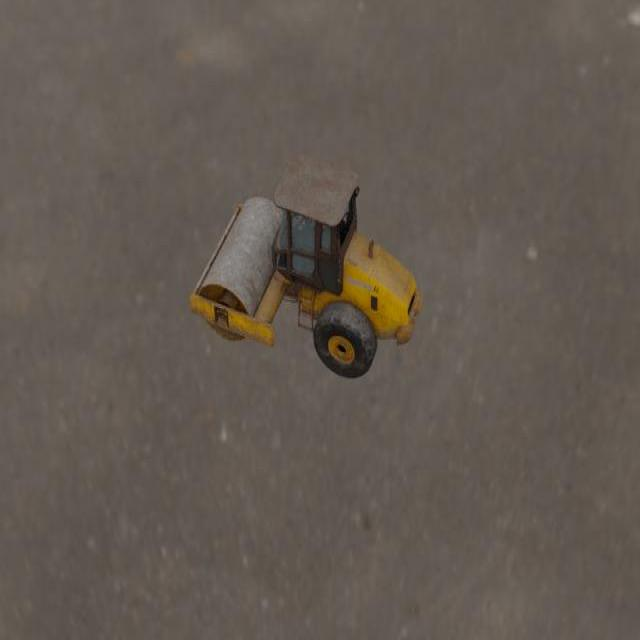Roller: (189, 153, 424, 379)
